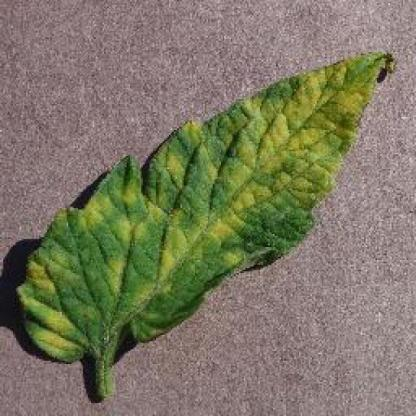Tomato_Leaf_Mold: (17, 52, 394, 366)
